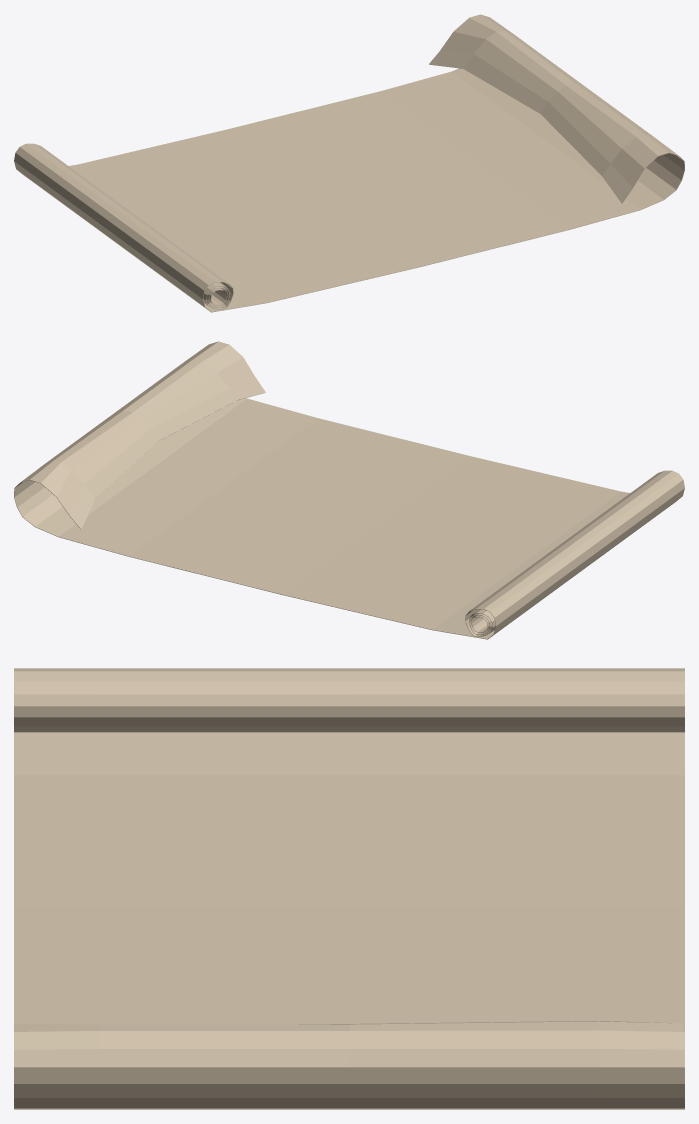
The model's file is Scroll_1.fbx.
3 renders of one model, top to bottom at view 1: azimuth 30°, elevation 25°; view 2: azimuth 150°, elevation 25°; view 3: azimuth 270°, elevation 25°, orthographic. The views are drawn at different scales.
Visible parts, largest first — view 1: Scroll_1; view 2: Scroll_1; view 3: Scroll_1.
Boxes of the visible parts, x1,y1,x2,y2 form: Scroll_1: (14, 14, 684, 312); Scroll_1: (14, 341, 684, 639); Scroll_1: (14, 668, 684, 1109).
Size of the model in its own units: 68.23 by 46.32 by 7.55.
